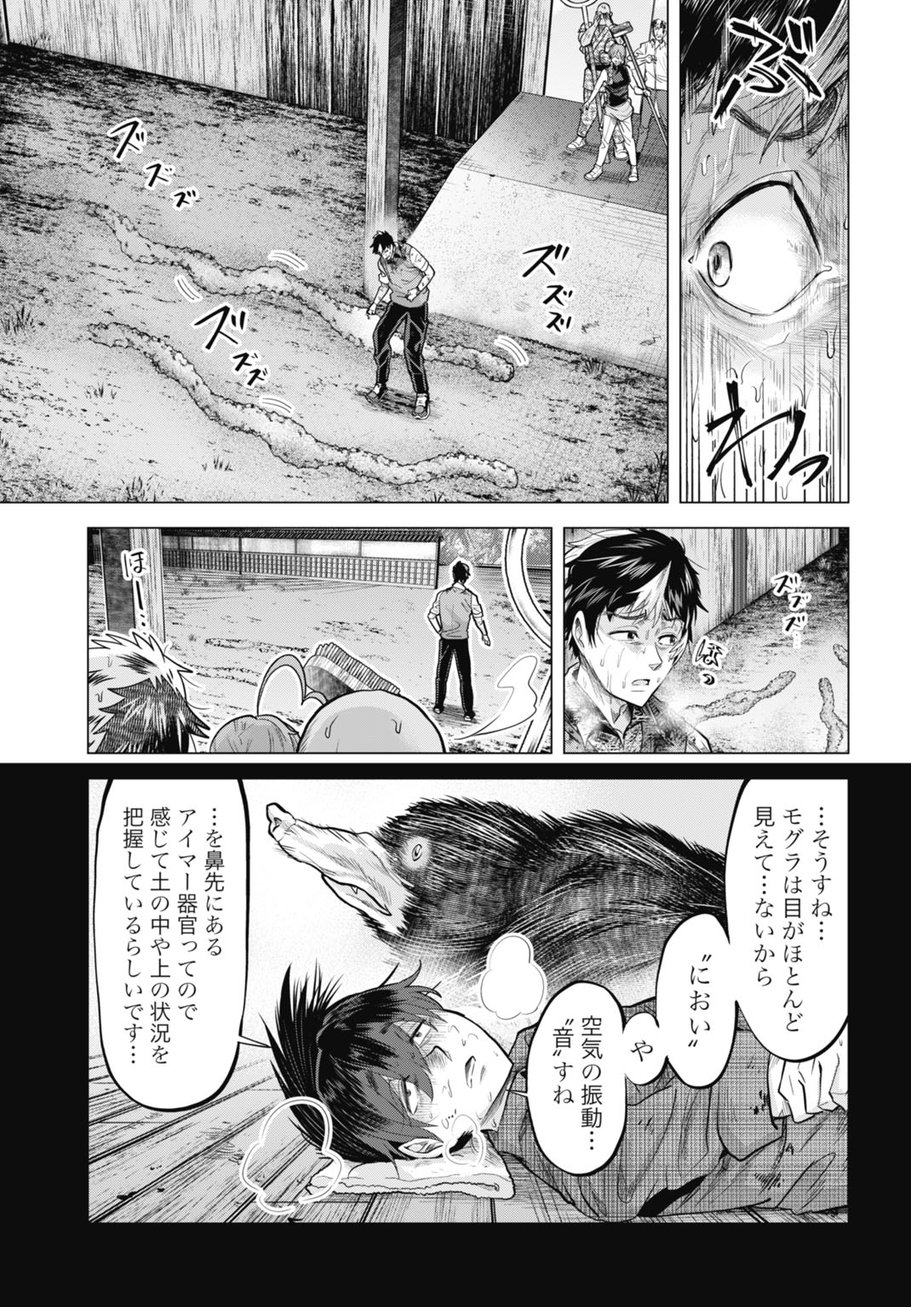bubbles: (519, 774, 855, 1181), (91, 773, 269, 1122)
